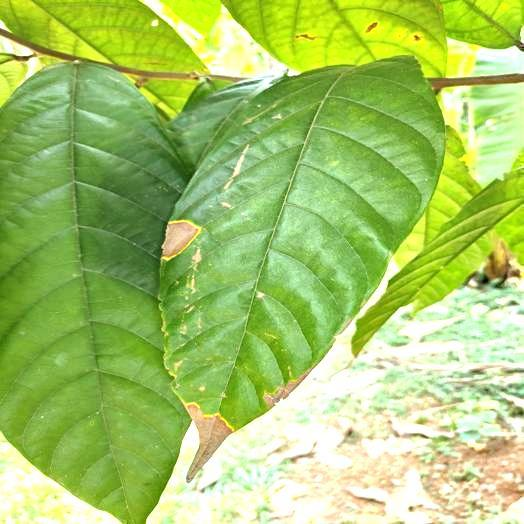Potassium: (160, 56, 444, 480)
